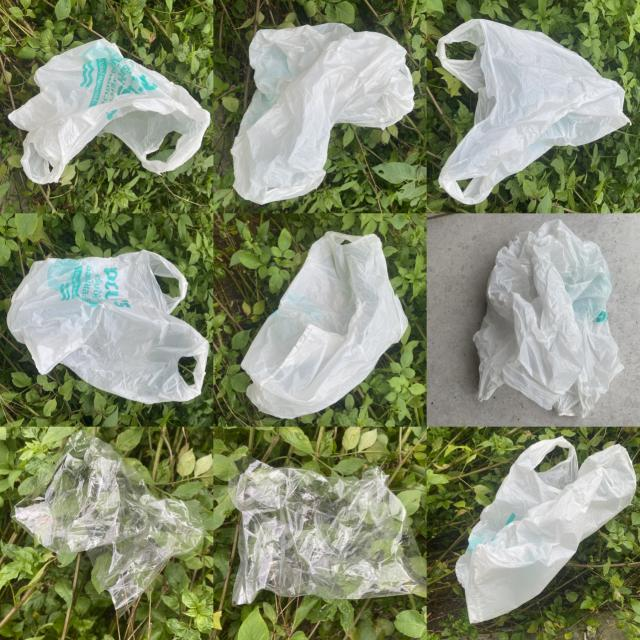Single-layer Plastic: (436, 19, 629, 204), (14, 431, 204, 614), (456, 438, 636, 622), (231, 24, 414, 204), (241, 231, 408, 419), (8, 250, 209, 404), (474, 220, 624, 417), (9, 39, 210, 183), (230, 461, 426, 605)
